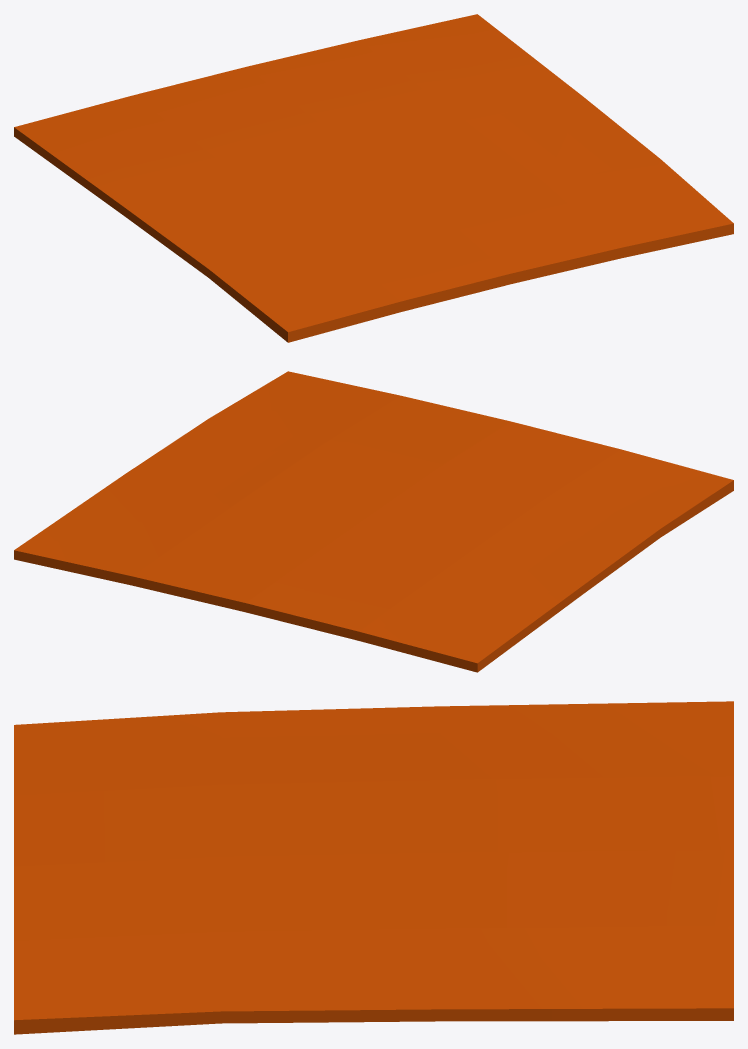
Rendered from brute_500_bonnet.glb.
3 renders of one model, top to bottom at view 1: azimuth 30°, elevation 25°; view 2: azimuth 150°, elevation 25°; view 3: azimuth 270°, elevation 25°, orthographic. The views are drawn at different scales.
Parts seen in each view (by area): view 1: brute_500_bonnet; view 2: brute_500_bonnet; view 3: brute_500_bonnet.
Part boxes in pixels (x1,y1,x2,y2): brute_500_bonnet: (14,14,733,342); brute_500_bonnet: (14,371,733,672); brute_500_bonnet: (14,701,733,1034).
Bounding box in the file's own units: 1.49 × 0.0839 × 1.47.
